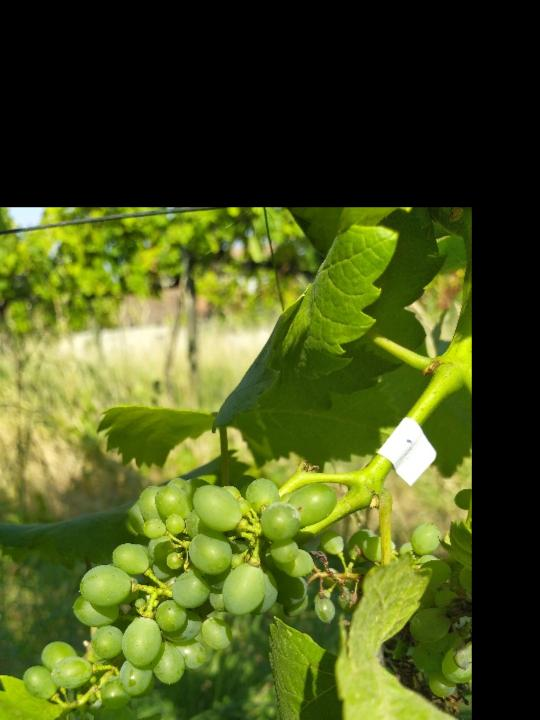grape: (3, 466, 357, 720)
